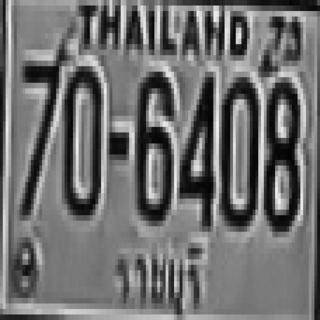N00: (62, 61, 101, 215), (220, 72, 257, 226)
N04: (178, 69, 212, 224)
N06: (135, 66, 171, 221)
N07: (20, 55, 59, 215)
N08: (261, 77, 298, 226)
P52: (108, 235, 210, 319)
